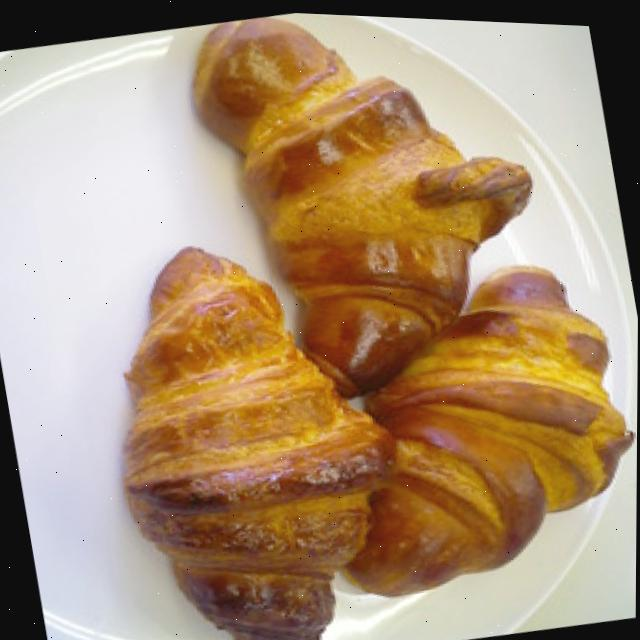面包点心: (41, 2, 640, 640)
